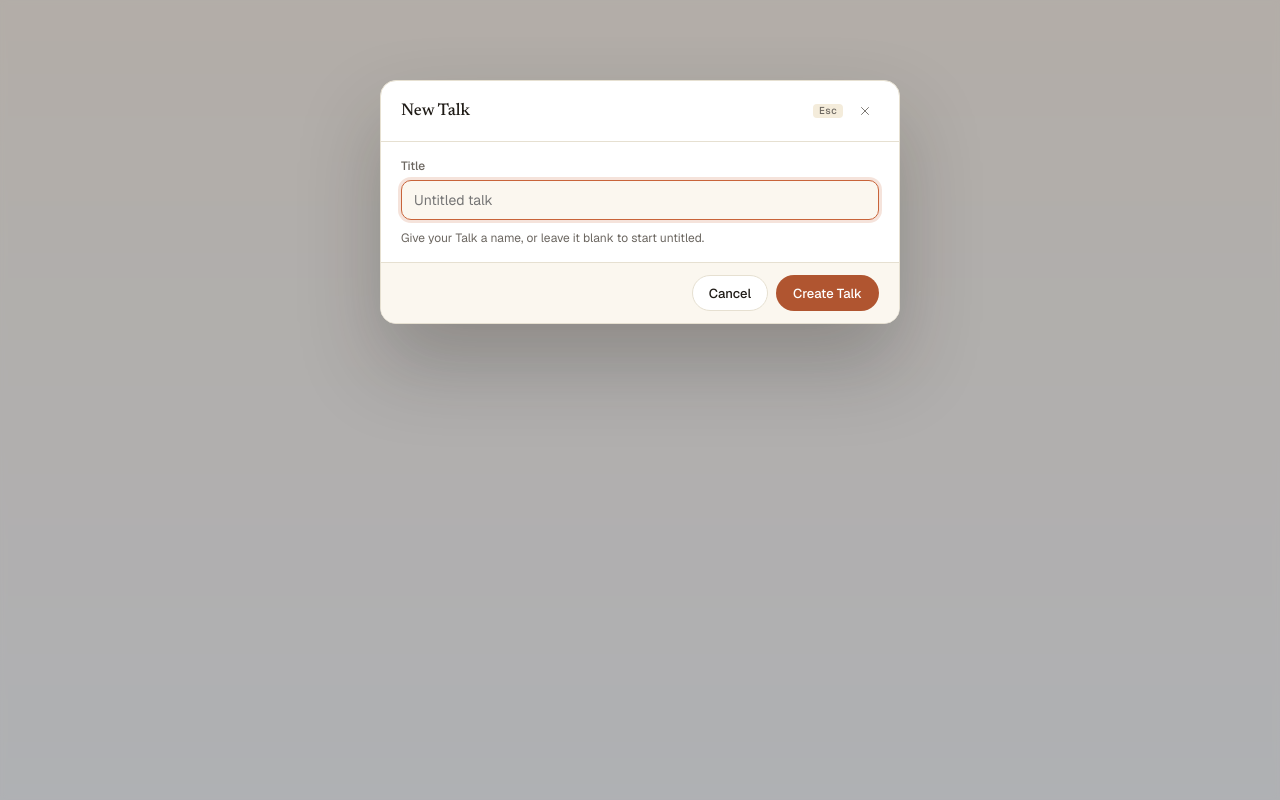
Scenario: NewTalkSheet › surfaces an error and reopens for retry when create fails
This screenshot has width=1280, height=800.
Click the button "Create Talk" at (828, 293), box [776,275,879,311]
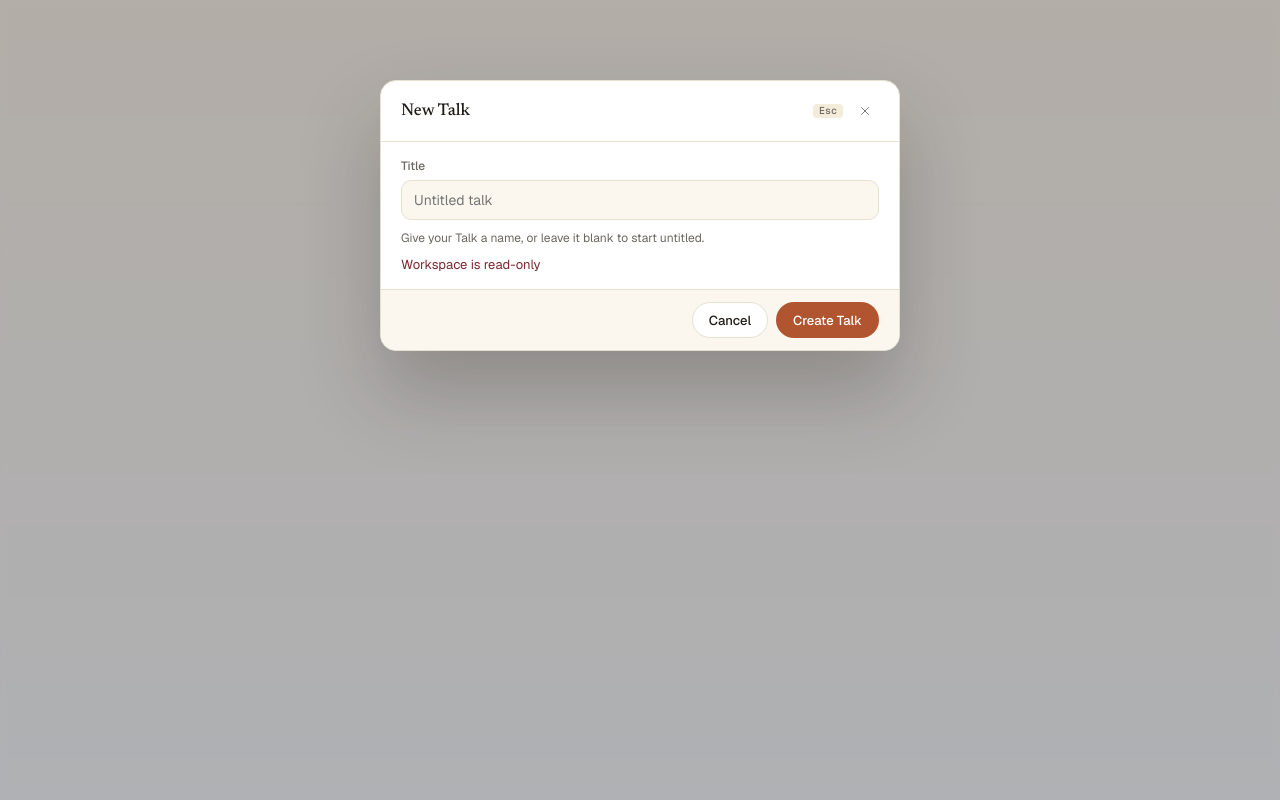
Check: the button "Create Talk" is enabled, box [776,302,879,338]
Check: the message reads "Workspace is read-only", box [401,256,540,273]
